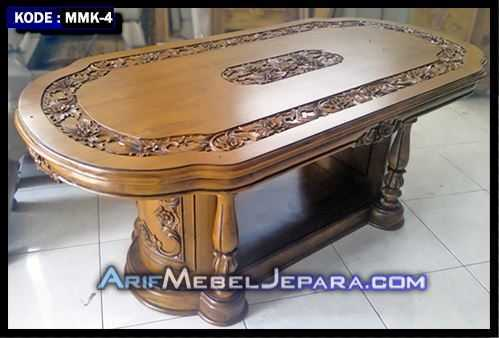Carving Table: (31, 35, 473, 279)
